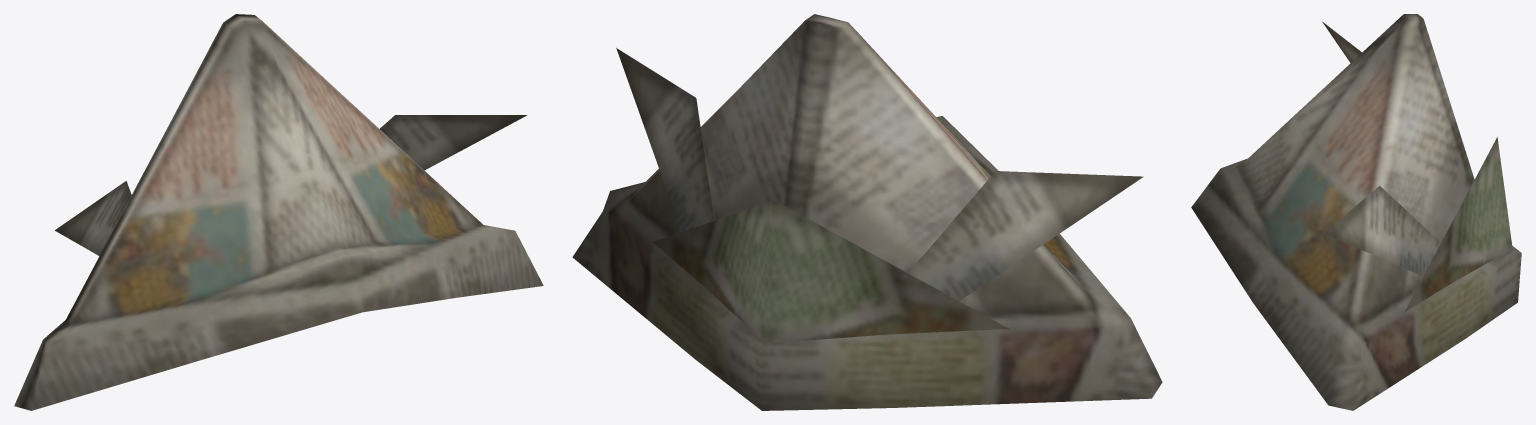
Rendered from paperHat.glb.
The picture shows the model from 3 angles, left to right: view 1: azimuth 30°, elevation 25°; view 2: azimuth 150°, elevation 25°; view 3: azimuth 270°, elevation 25°; orthographic projection. The views are drawn at different scales.
Visible parts, largest first — view 1: paperHat; view 2: paperHat; view 3: paperHat.
Boxes of the visible parts, x1,y1,x2,y2 form: paperHat: (14,14,543,410); paperHat: (572,14,1162,410); paperHat: (1191,14,1521,410).
Bounding box in the file's own units: 0.2842 × 0.1615 × 0.1705.
1 material, 1 textured.
